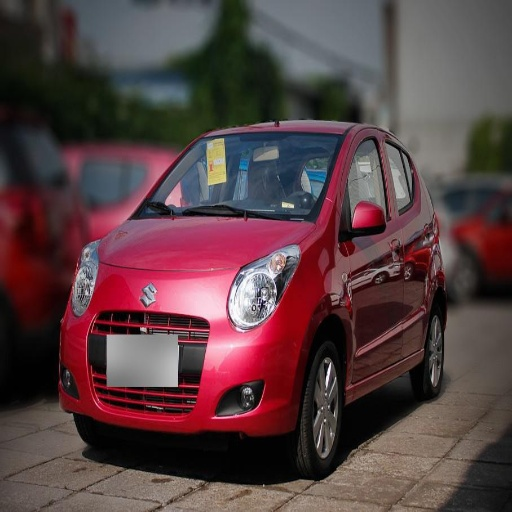back_bumper: (60, 313, 145, 426)
back_left_door: (379, 132, 429, 352)
front_bumper: (143, 272, 308, 433)
front_glass: (167, 136, 342, 221)
front_left_door: (338, 130, 402, 375)
trunk: (77, 218, 221, 397)
